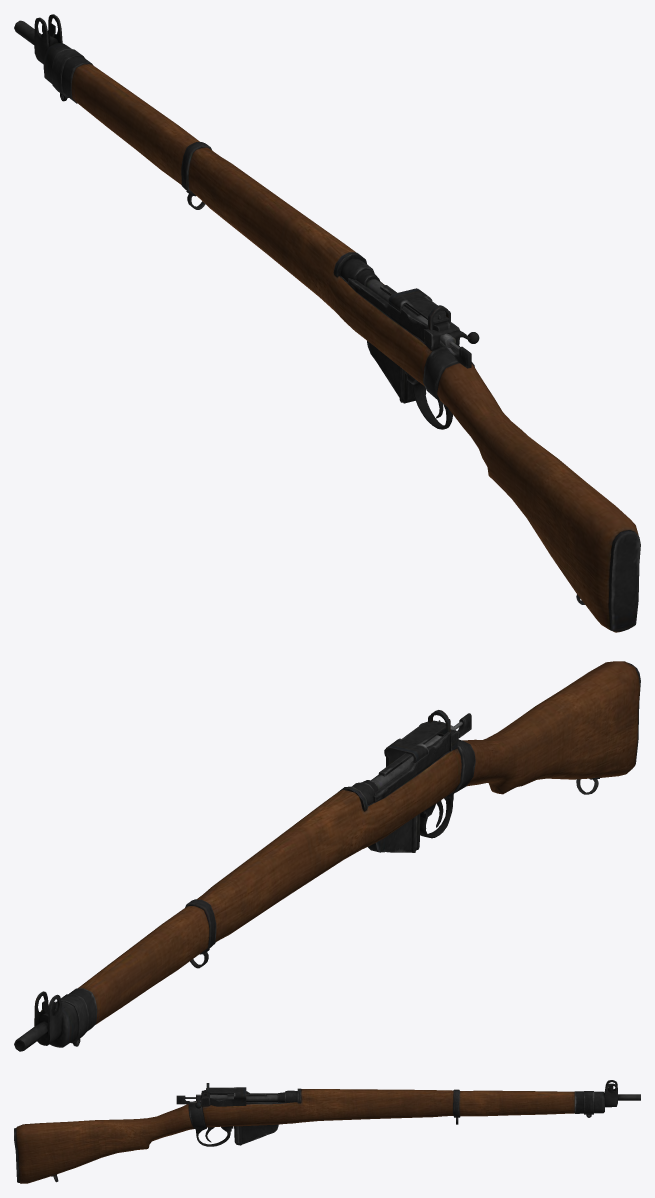
Rendered from rifle_bolt_wood.glb.
The picture shows the model from 3 angles, top to bottom: view 1: azimuth 30°, elevation 25°; view 2: azimuth 150°, elevation 25°; view 3: azimuth 270°, elevation 25°; orthographic projection. The views are drawn at different scales.
Parts seen in each view (by area): view 1: FP Hunting Rifle; view 2: FP Hunting Rifle; view 3: FP Hunting Rifle.
Boxes of the visible parts, box(x1,y1,x2,y2) form: FP Hunting Rifle: box(14, 14, 640, 632); FP Hunting Rifle: box(14, 661, 640, 1051); FP Hunting Rifle: box(14, 1080, 640, 1183).
Bounding box in the file's own units: 0.0538 × 0.1968 × 1.11.
1 material, 1 textured.
